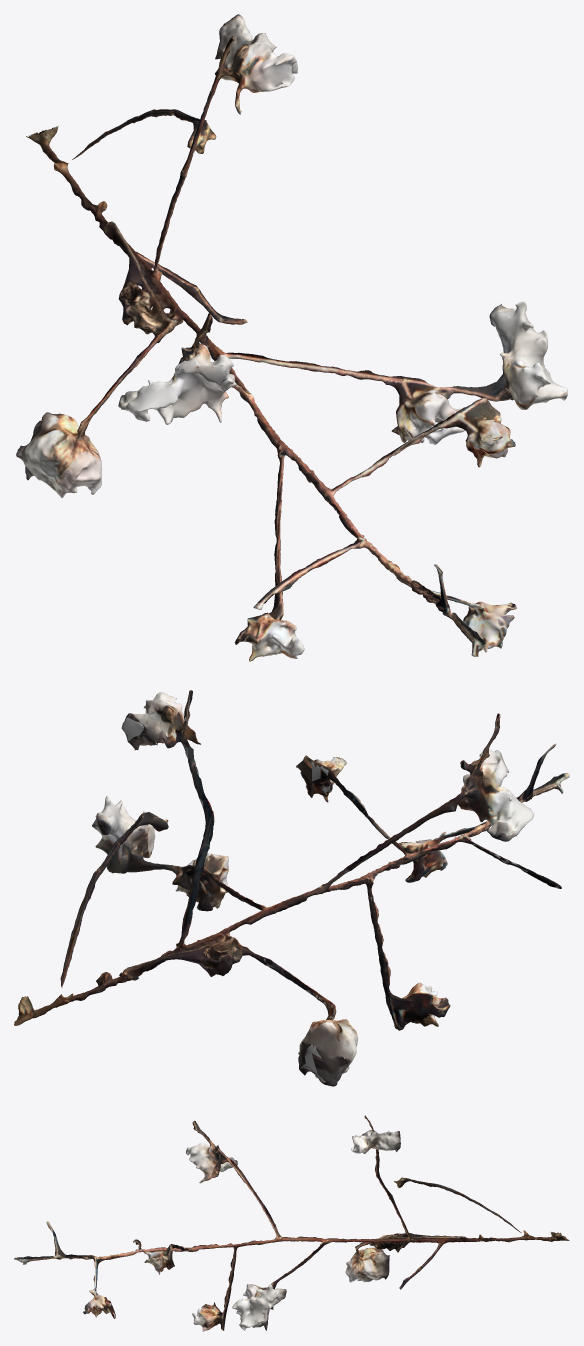
File: plant_28_grouped.obj
The picture shows the model from 3 angles, top to bottom: view 1: azimuth 30°, elevation 25°; view 2: azimuth 150°, elevation 25°; view 3: azimuth 270°, elevation 25°; orthographic projection. The views are drawn at different scales.
Visible parts, largest first — view 1: Cotton_Boll_Part, Cotton_Remaining; view 2: Cotton_Remaining, Cotton_Boll_Part; view 3: Cotton_Boll_Part, Cotton_Remaining.
Boxes of the visible parts, bbox=[...] form: Cotton_Boll_Part: bbox=[16, 14, 567, 661]; Cotton_Remaining: bbox=[26, 36, 513, 656]; Cotton_Remaining: bbox=[14, 690, 569, 1030]; Cotton_Boll_Part: bbox=[92, 692, 534, 1086]; Cotton_Boll_Part: bbox=[83, 1129, 400, 1331]; Cotton_Remaining: bbox=[14, 1115, 569, 1330].
Size of the model in its own units: 1.81 by 1.8 by 3.76.
1 material, 1 textured.
